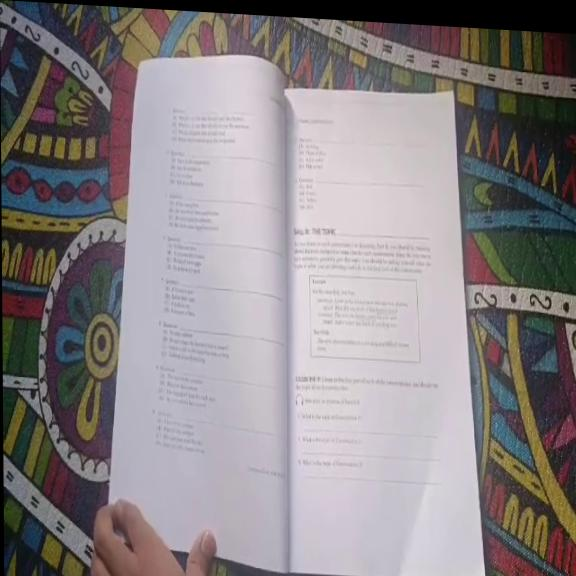Kertas: (245, 94, 454, 572), (142, 80, 345, 551)
